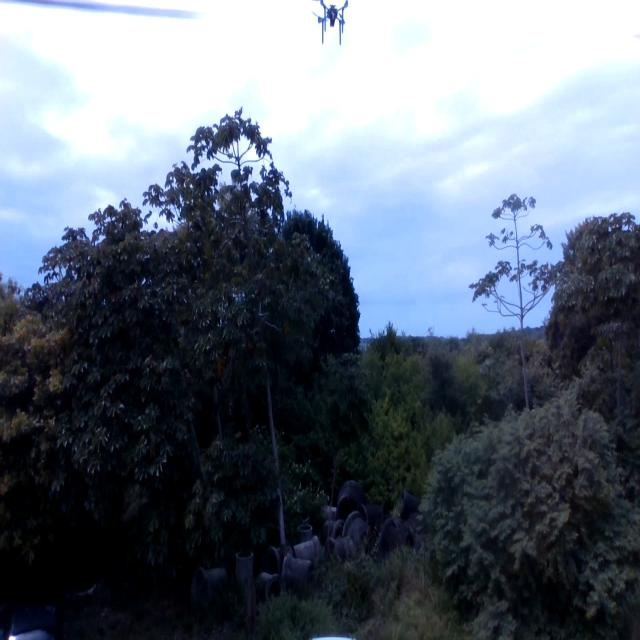-uav-: (307, 1, 355, 54)
